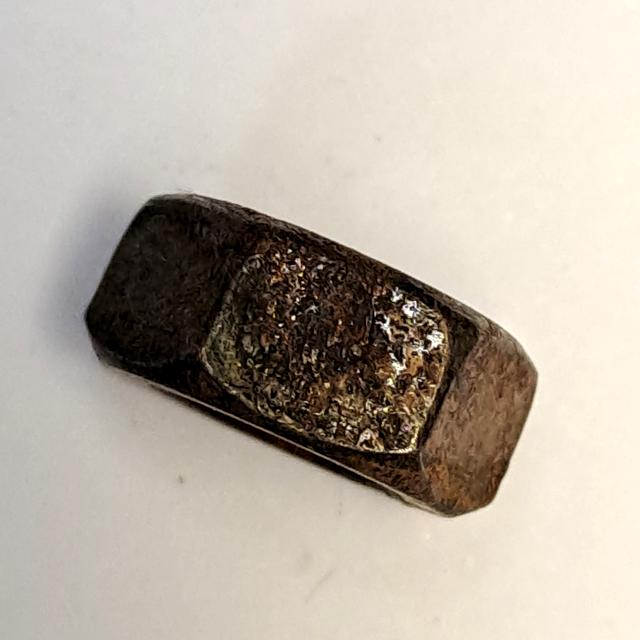Side_Rust: (70, 152, 572, 541)
